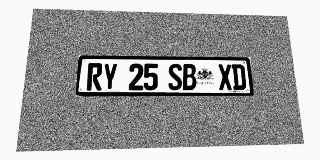2: (129, 63, 143, 90)
5: (144, 63, 158, 90)
B: (182, 64, 197, 90)
D: (231, 64, 246, 90)
R: (86, 63, 103, 90)
S: (168, 64, 182, 90)
X: (218, 64, 233, 90)
Y: (102, 63, 118, 90)
